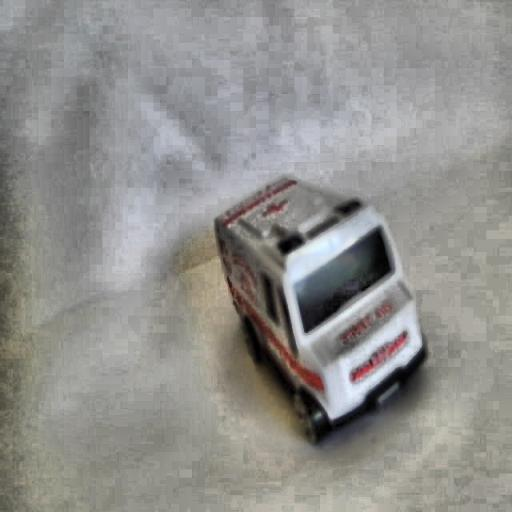ambulance: (214, 174, 426, 445)
